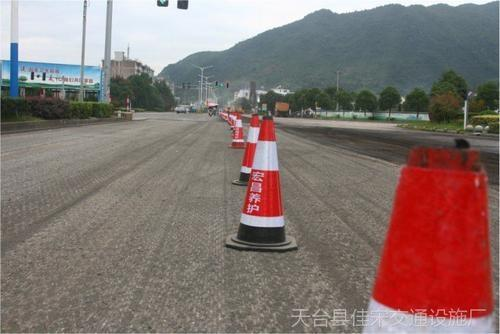cone_barrel: (357, 129, 498, 322), (229, 114, 293, 249), (235, 114, 259, 186), (229, 115, 245, 149), (29, 67, 33, 79), (47, 68, 51, 79), (41, 70, 45, 79)
